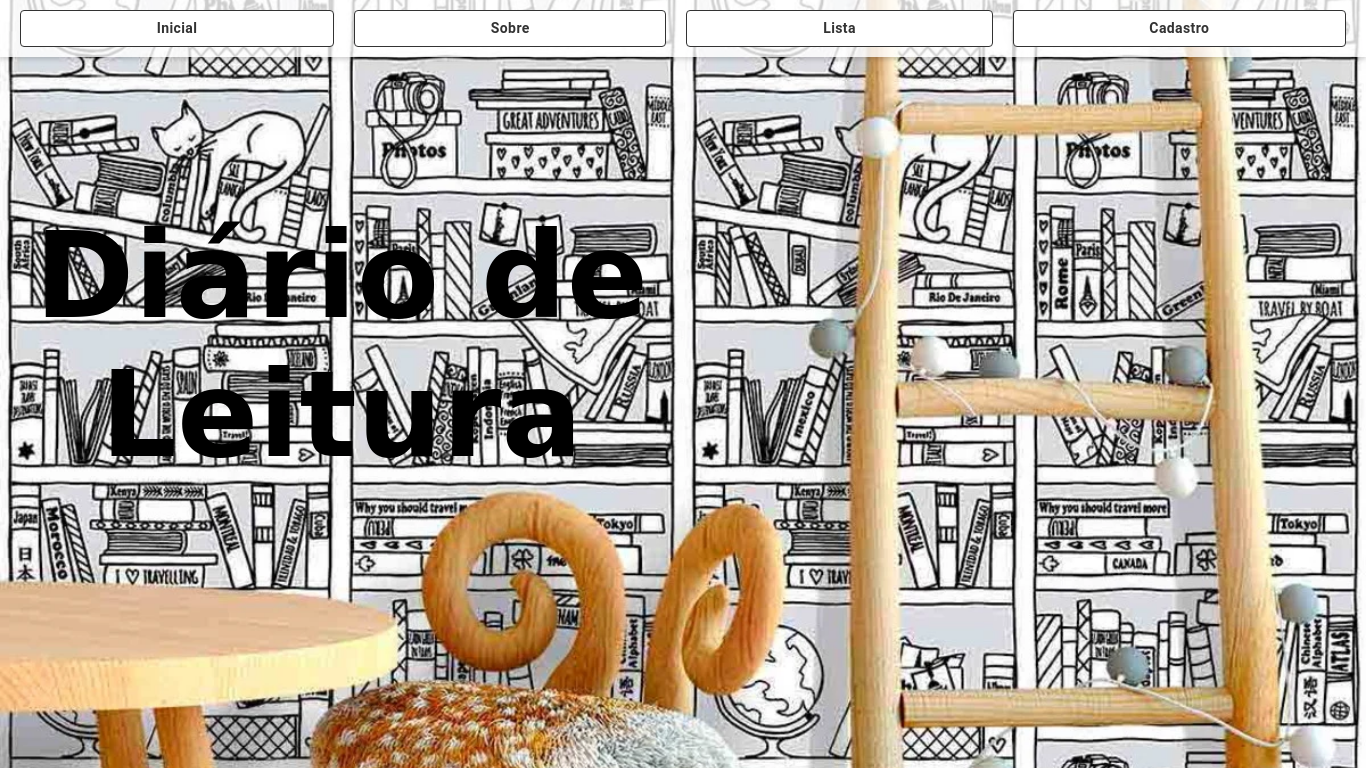
Test: testado formulario com campos vazios › não deve permitir envio com campos vazios
This screenshot has width=1366, height=768.
Click the link "Cadastro" at (1180, 29), box x1=1013 y1=10 x2=1346 y2=47
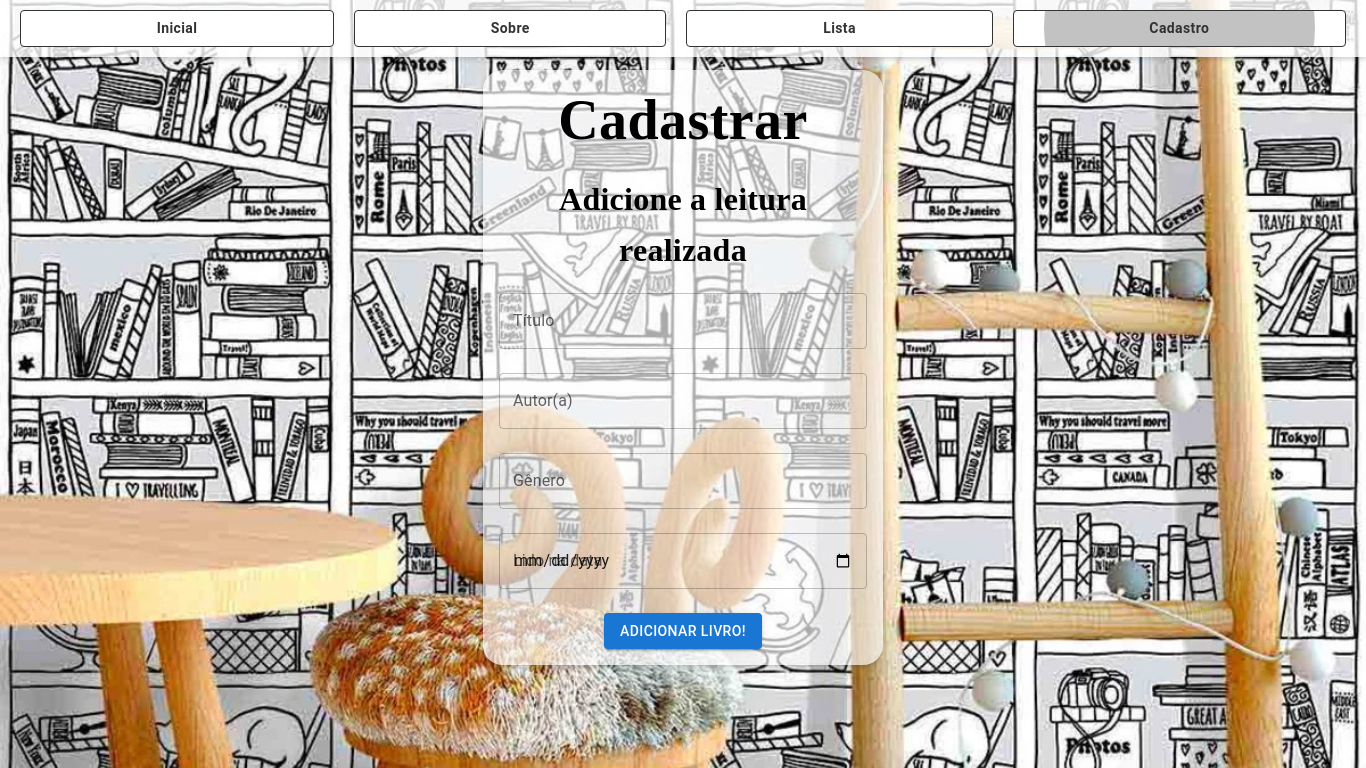
Note: Enviar formulário sem preencher
Submit the form, box x1=499 y1=277 x2=867 y2=650
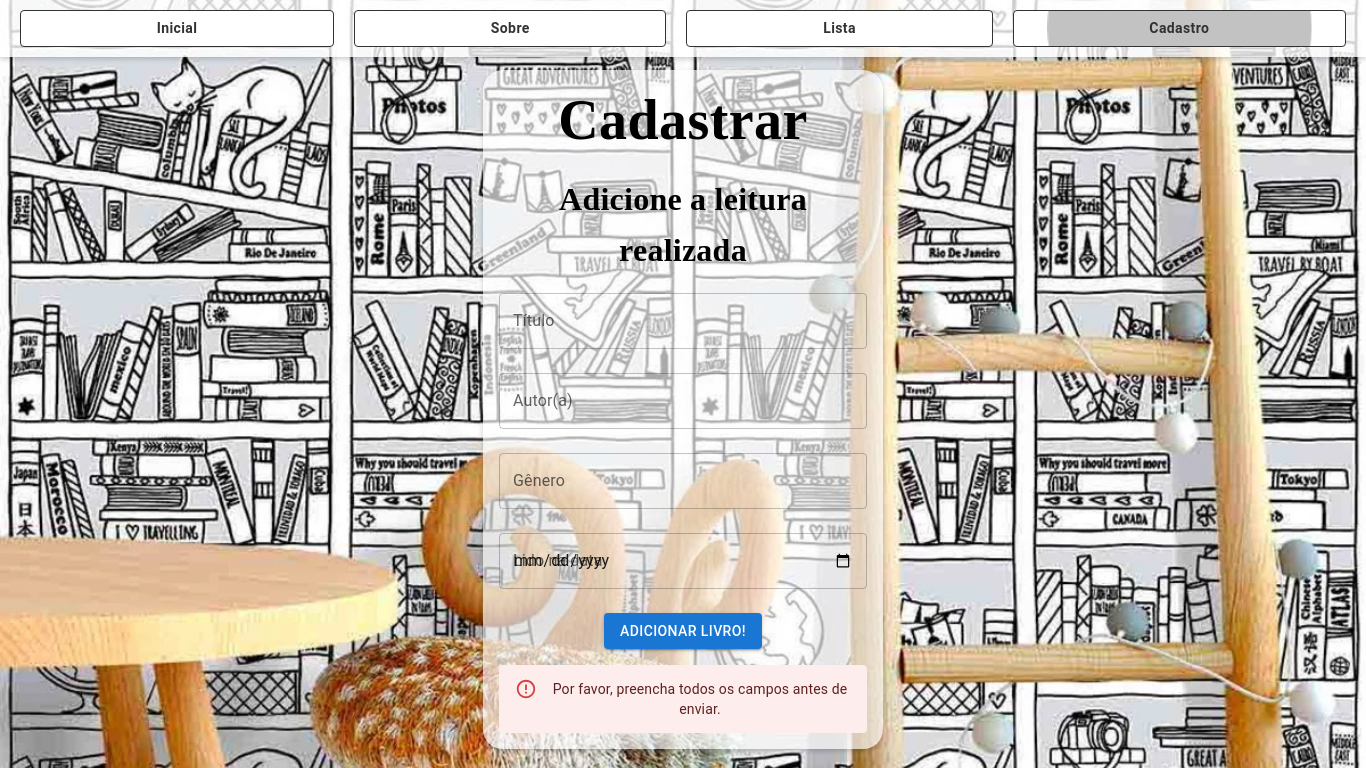
Now the field named "title" is shown, box x1=499 y1=293 x2=867 y2=349
Now the field named "author" is shown, box x1=499 y1=373 x2=867 y2=429
Now the text "Por favor, preencha todos os campos antes de enviar." is shown, box x1=549 y1=671 x2=851 y2=727
